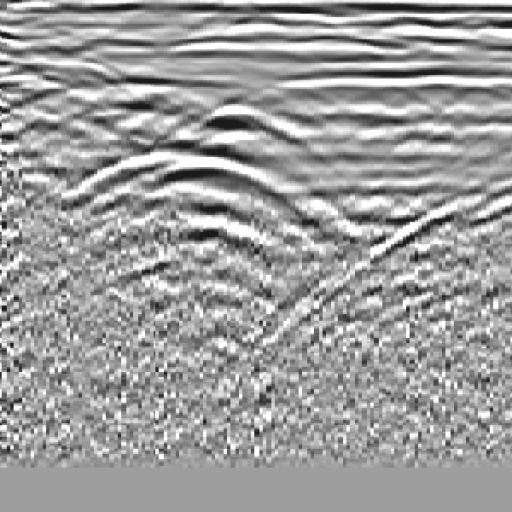non-metallic: (58, 136, 355, 256), (119, 89, 378, 215)
